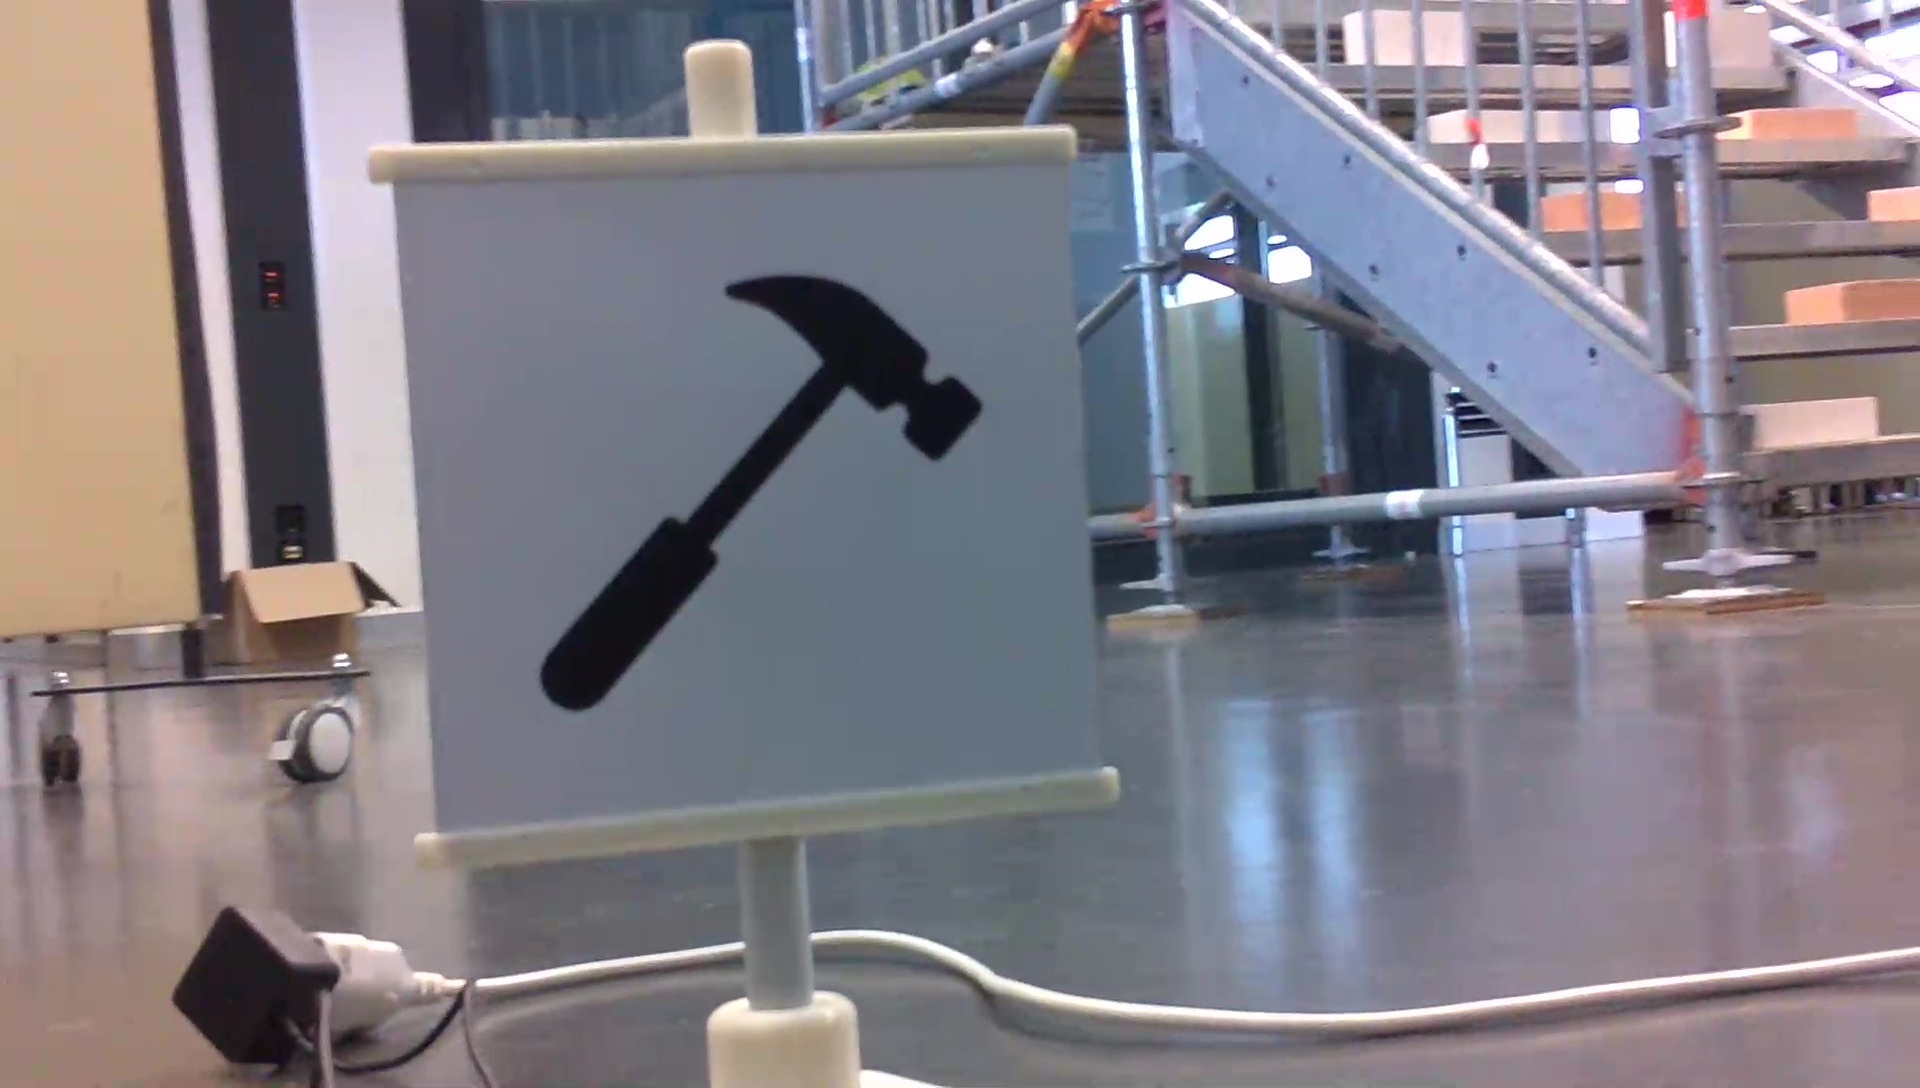brick: (1789, 282, 1920, 320), (1755, 398, 1873, 440), (1727, 108, 1855, 142), (1706, 9, 1767, 69), (1869, 186, 1917, 220)
hammer: (527, 270, 993, 720)
